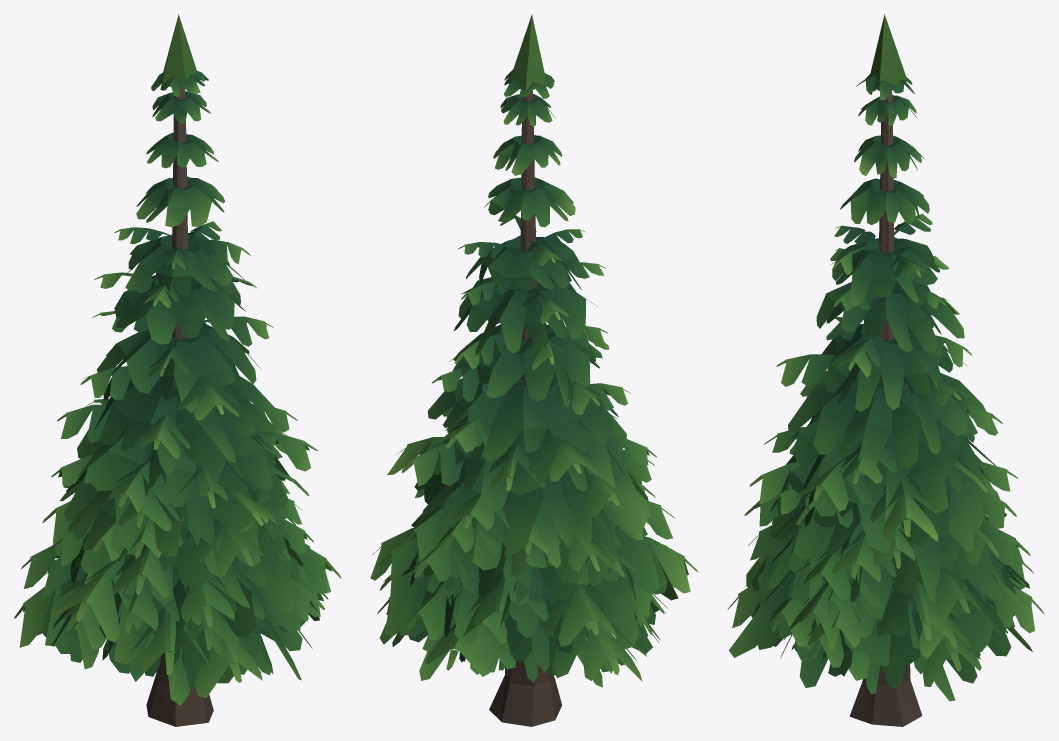
Rendered from spruce_L_slim_std_bottom_dense_s11.glb.
3 views of the same model, side by side, from view 1: azimuth 30°, elevation 25°; view 2: azimuth 150°, elevation 25°; view 3: azimuth 270°, elevation 25° (orthographic).
Visible parts, largest first — view 1: Tree; view 2: Tree; view 3: Tree.
Part boxes in pixels (x1,y1,x2,y2): Tree: [14, 14, 341, 726]; Tree: [370, 14, 698, 726]; Tree: [727, 14, 1044, 726].
Size of what is drawn, in the model's own units: 3.36 by 7.96 by 3.29.
